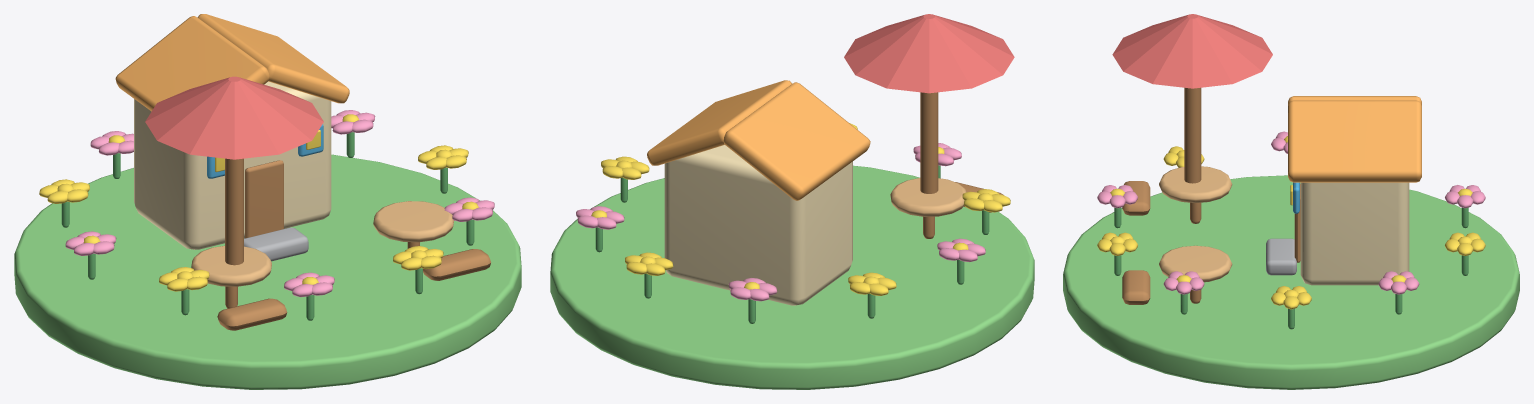
The model's file is region_cafe.glb.
3 renders of one model, left to right at view 1: azimuth 30°, elevation 25°; view 2: azimuth 150°, elevation 25°; view 3: azimuth 270°, elevation 25°, orthographic. The views are drawn at different scales.
Visible parts, largest first — view 1: round grassy plot, rounded plaster walls, Cone, overlapping roof tiles, overlapping roof tiles.001, arched entry, cafe table, cafe table.001, umbrella mast, cafe bench.001, stone threshold, cafe bench; view 2: round grassy plot, rounded plaster walls, Cone, overlapping roof tiles, overlapping roof tiles.001, cafe table.001, umbrella mast; view 3: round grassy plot, overlapping roof tiles.001, rounded plaster walls, Cone, cafe table.001, cafe table, umbrella mast, stone threshold, cafe bench, cafe bench.001, overlapping roof tiles.
Part boxes in pixels (x1=…): round grassy plot: x1=14, y1=154, x2=521, y2=389; rounded plaster walls: x1=134, y1=81, x2=331, y2=249; Cone: x1=145, y1=76, x2=323, y2=159; overlapping roof tiles: x1=115, y1=16, x2=269, y2=111; overlapping roof tiles.001: x1=197, y1=14, x2=349, y2=103; arched entry: x1=245, y1=160, x2=283, y2=238; cafe table: x1=373, y1=201, x2=454, y2=242; cafe table.001: x1=191, y1=245, x2=271, y2=286; umbrella mast: x1=225, y1=158, x2=243, y2=265; cafe bench.001: x1=217, y1=298, x2=287, y2=330; stone threshold: x1=244, y1=227, x2=308, y2=261; cafe bench: x1=423, y1=249, x2=491, y2=280; round grassy plot: x1=550, y1=165, x2=1034, y2=389; rounded plaster walls: x1=664, y1=145, x2=852, y2=305; Cone: x1=844, y1=14, x2=1014, y2=93; overlapping roof tiles: x1=723, y1=82, x2=870, y2=200; overlapping roof tiles.001: x1=647, y1=80, x2=792, y2=165; cafe table.001: x1=890, y1=178, x2=966, y2=216; umbrella mast: x1=920, y1=92, x2=938, y2=193; round grassy plot: x1=1063, y1=175, x2=1519, y2=389; overlapping roof tiles.001: x1=1288, y1=100, x2=1421, y2=182; rounded plaster walls: x1=1300, y1=182, x2=1409, y2=285; Cone: x1=1112, y1=14, x2=1272, y2=88; cafe table.001: x1=1159, y1=166, x2=1232, y2=202; cafe table: x1=1159, y1=245, x2=1232, y2=282; umbrella mast: x1=1184, y1=87, x2=1201, y2=183; stone threshold: x1=1266, y1=238, x2=1296, y2=275; cafe bench: x1=1122, y1=270, x2=1150, y2=304; cafe bench.001: x1=1122, y1=181, x2=1150, y2=215; overlapping roof tiles: x1=1288, y1=96, x2=1421, y2=105.
Bounding box in the file's own units: 3.24 × 1.88 × 3.24.
